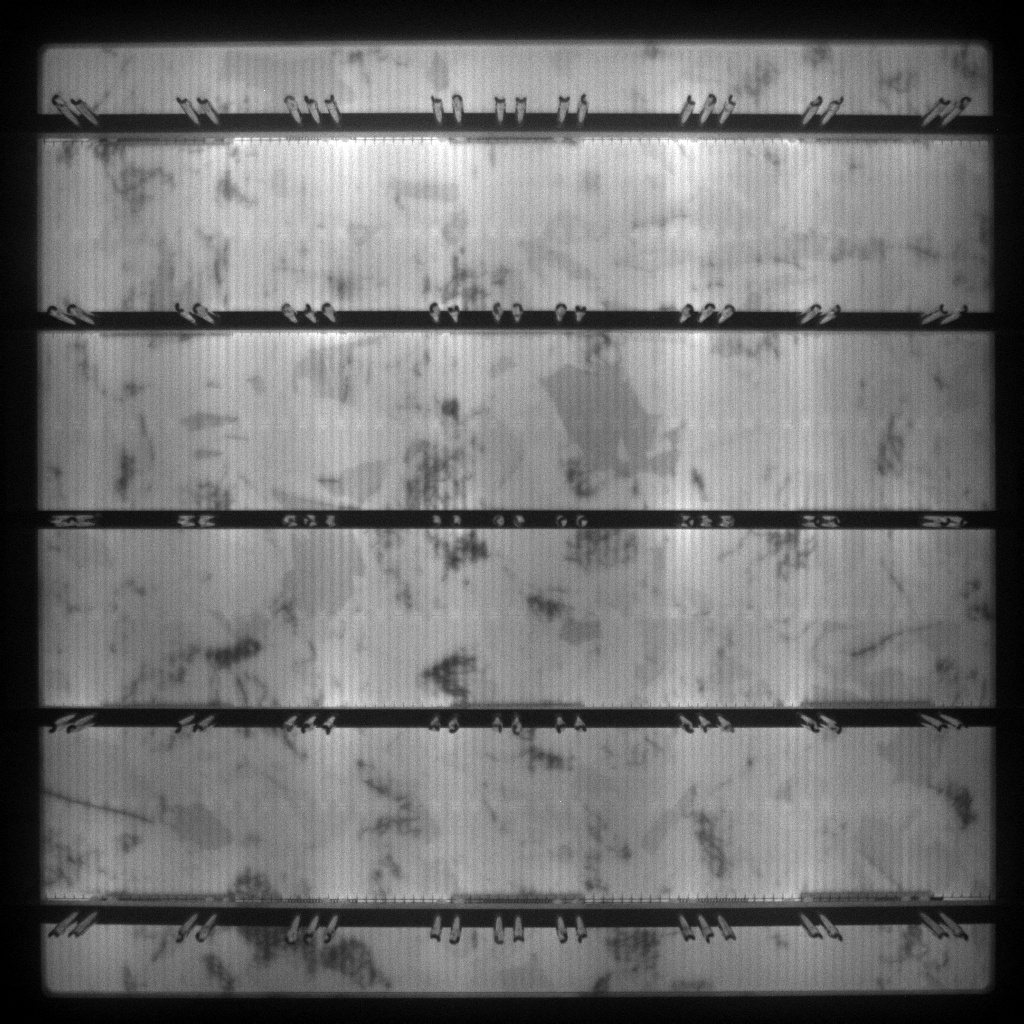crack: (46, 786, 154, 828)
